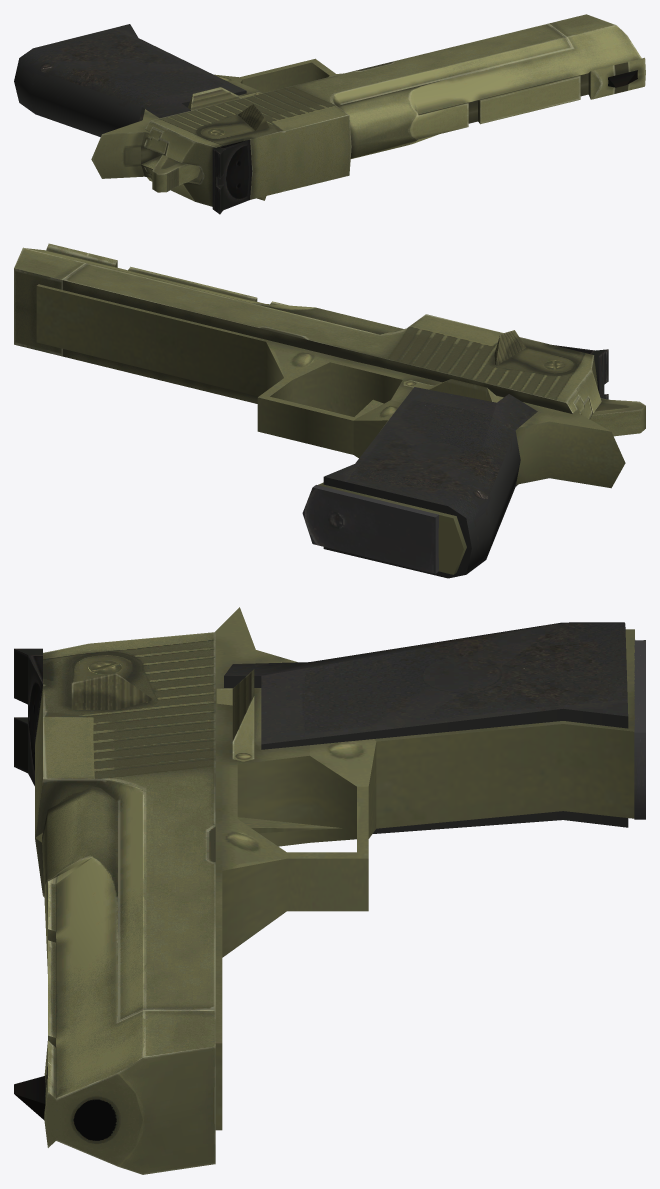
File: weapon_desert_eagle_gold_LOD0.obj
The picture shows the model from 3 angles, top to bottom: view 1: azimuth 30°, elevation 25°; view 2: azimuth 150°, elevation 25°; view 3: azimuth 270°, elevation 25°; orthographic projection. The views are drawn at different scales.
Parts seen in each view (by area): view 1: mtl_weapon_desert_eagle_gold; view 2: mtl_weapon_desert_eagle_gold; view 3: mtl_weapon_desert_eagle_gold.
Part boxes in pixels (x1=…): mtl_weapon_desert_eagle_gold: x1=14, y1=14, x2=645, y2=214; mtl_weapon_desert_eagle_gold: x1=14, y1=243, x2=645, y2=578; mtl_weapon_desert_eagle_gold: x1=14, y1=607, x2=645, y2=1174.
Size of the model in its own units: 29.57 by 5.26 by 16.46.
Materials: 1 (1 with a texture image).
